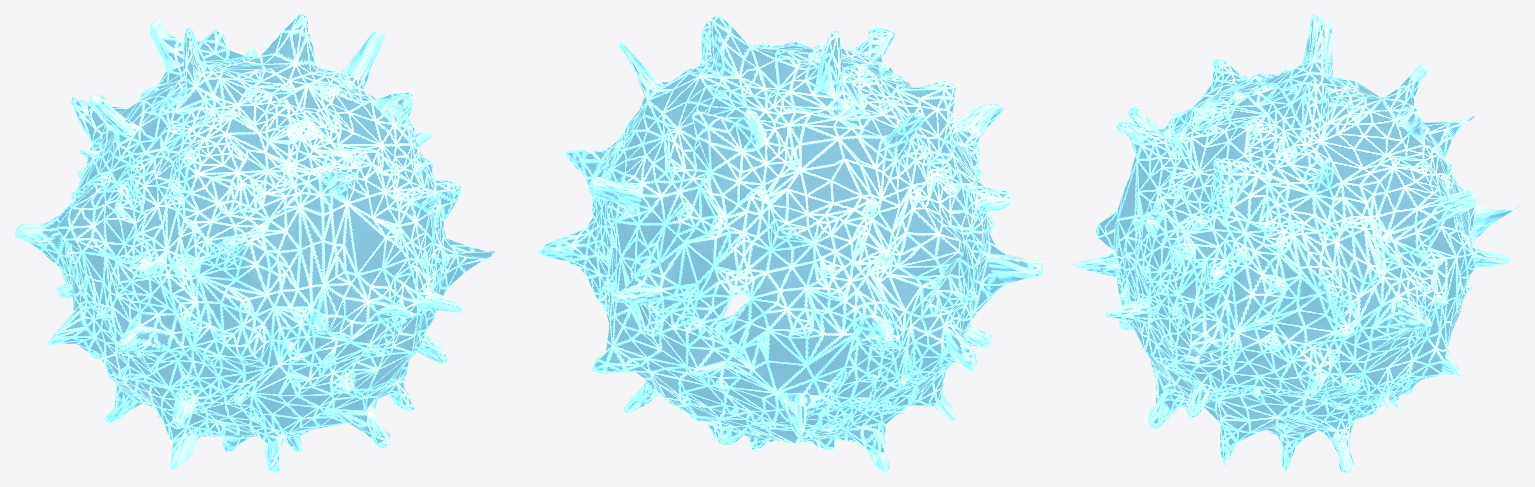
The model's file is virus.gltf.
The picture shows the model from 3 angles, left to right: view 1: azimuth 30°, elevation 25°; view 2: azimuth 150°, elevation 25°; view 3: azimuth 270°, elevation 25°; orthographic projection. The views are drawn at different scales.
Visible parts, largest first — view 1: Low_Poly; view 2: Low_Poly; view 3: Low_Poly.
Part boxes in pixels (box(x1,y1,x2,y2)): Low_Poly: box(14, 14, 504, 472); Low_Poly: box(538, 14, 1043, 472); Low_Poly: box(1072, 14, 1519, 472).
Size of the model in its own units: 5.4 by 5.8 by 5.72.
Materials: 1 (1 with a texture image).
